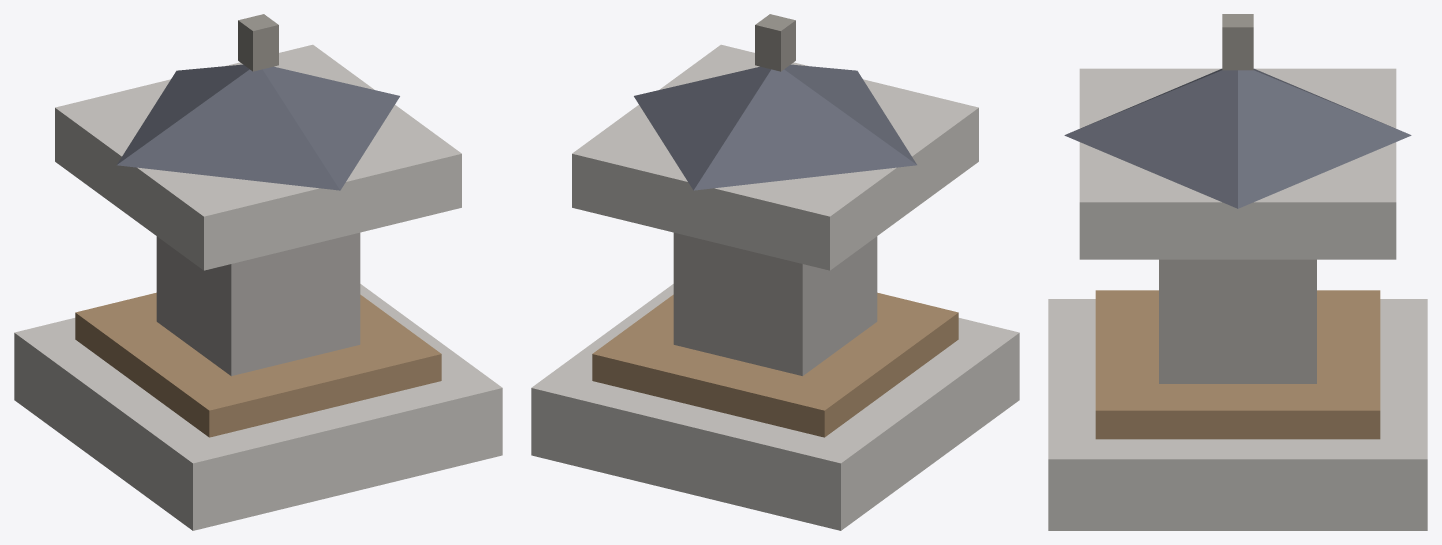
The model's file is station_亭灯.glb.
3 views of the same model, side by side, from view 1: azimuth 30°, elevation 25°; view 2: azimuth 150°, elevation 25°; view 3: azimuth 270°, elevation 25° (orthographic). The views are drawn at different scales.
Parts seen in each view (by area): view 1: 亭灯; view 2: 亭灯; view 3: 亭灯.
Part boxes in pixels (x1,y1,x2,y2): 亭灯: [14, 14, 502, 530]; 亭灯: [531, 14, 1019, 530]; 亭灯: [1048, 14, 1427, 530].
Bounding box in the file's own units: 0.48 × 0.6 × 0.48.
